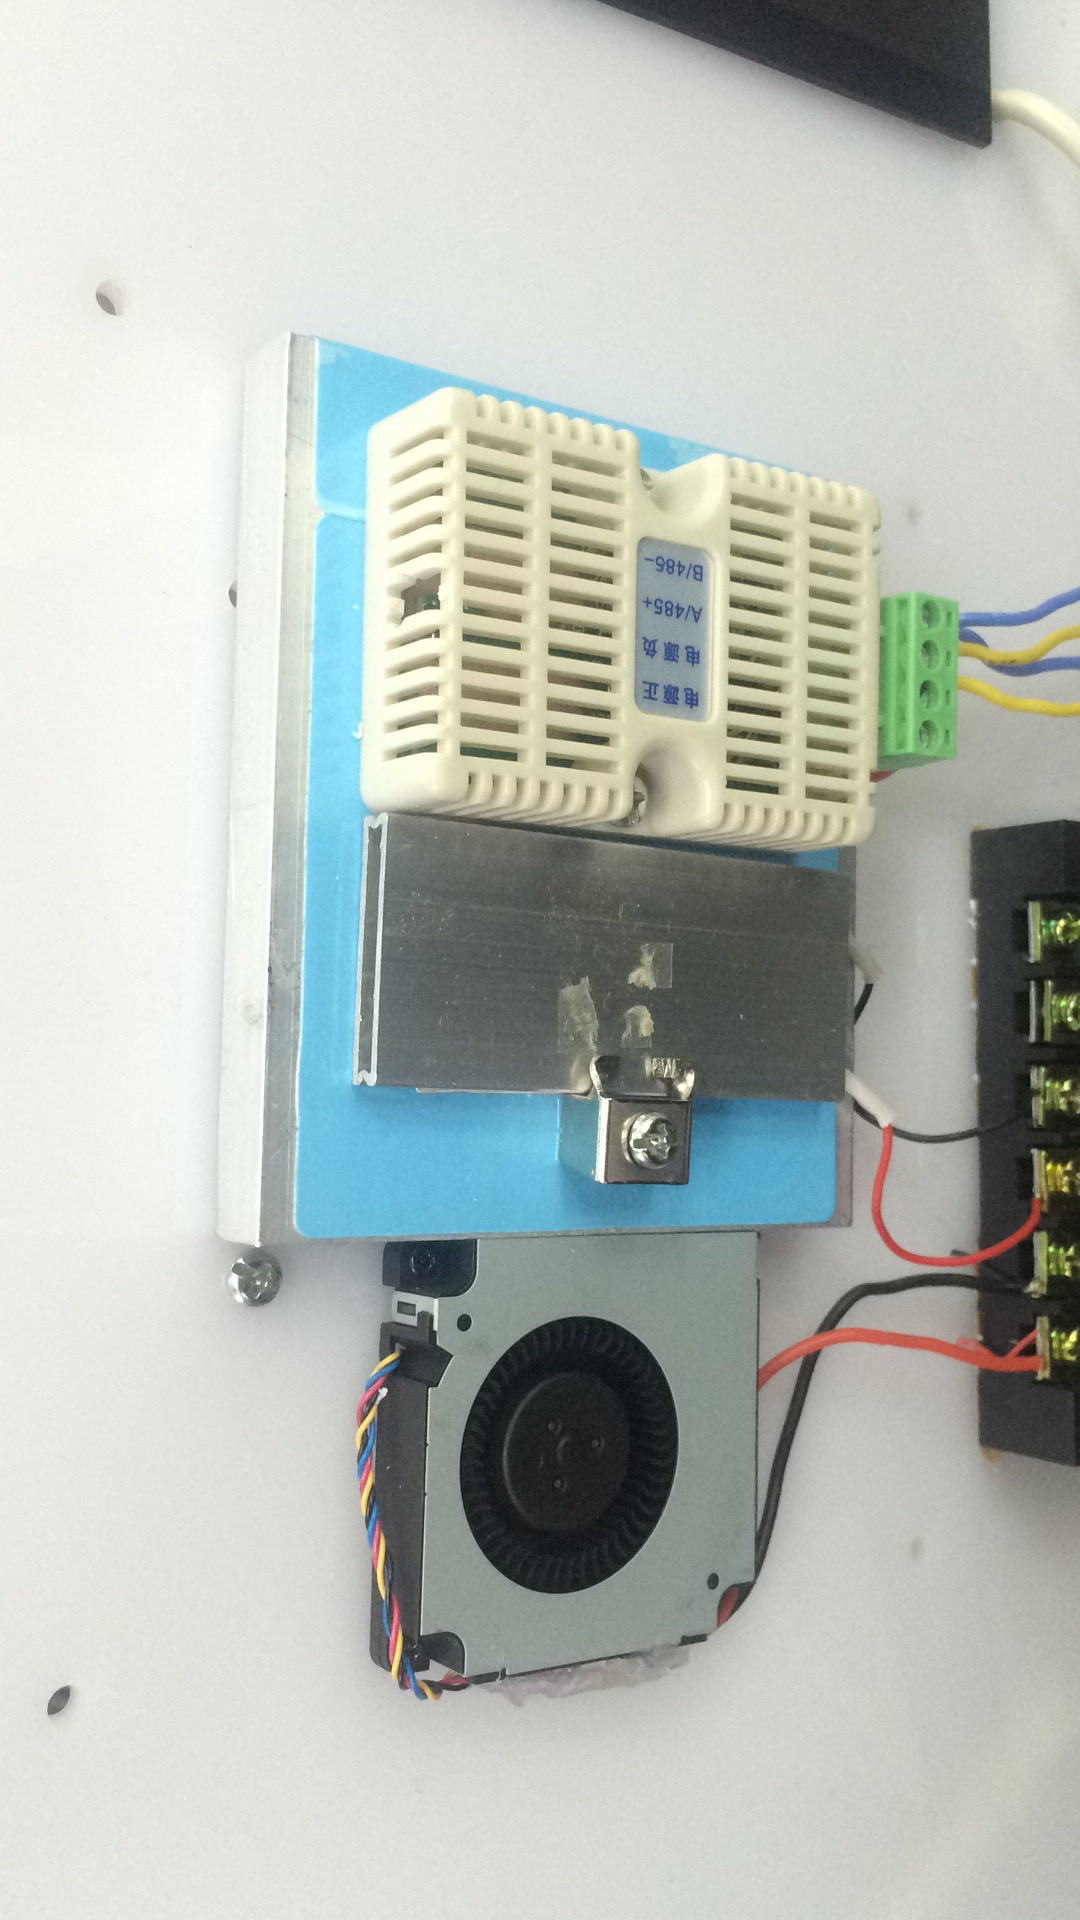fan: (357, 1230, 789, 1702)
heater: (342, 814, 903, 1116)
temperature: (357, 388, 895, 862)
